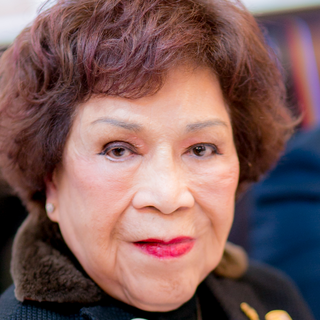eye: (93, 138, 145, 165), (175, 136, 226, 163)
